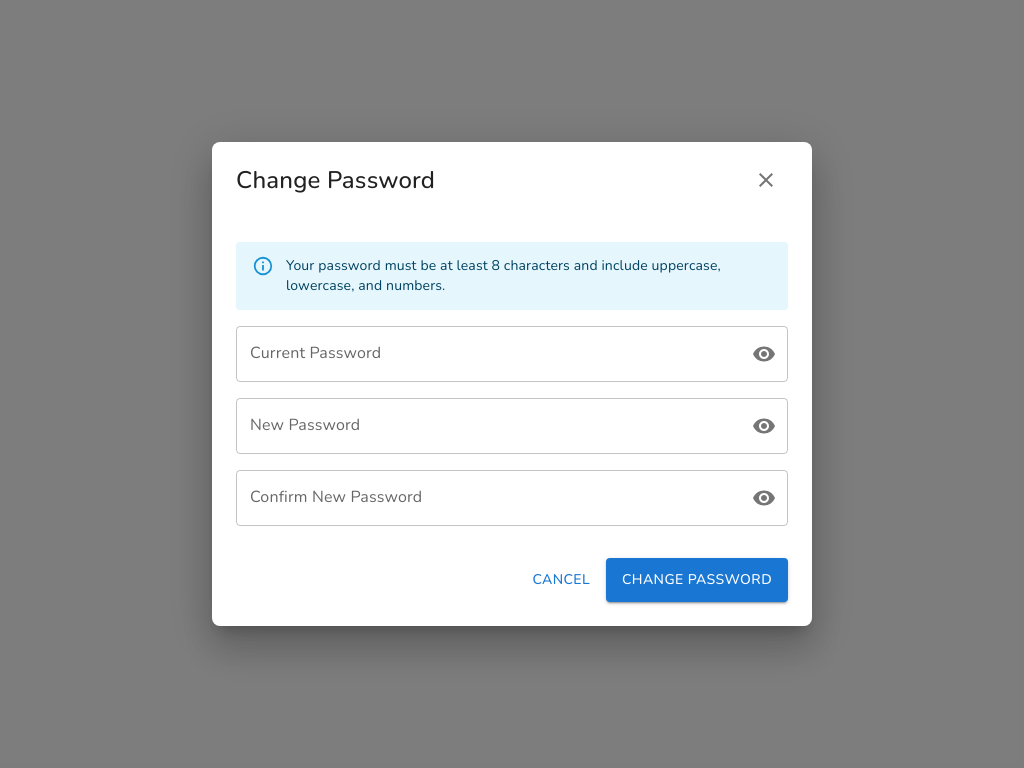
Test: ChangePasswordDialog › Form Validation › should show error when new password is empty
Step 1. Type "OldPass123" into the password field labelled "Current Password" → coordinates (485, 354), box [236,326,734,382]
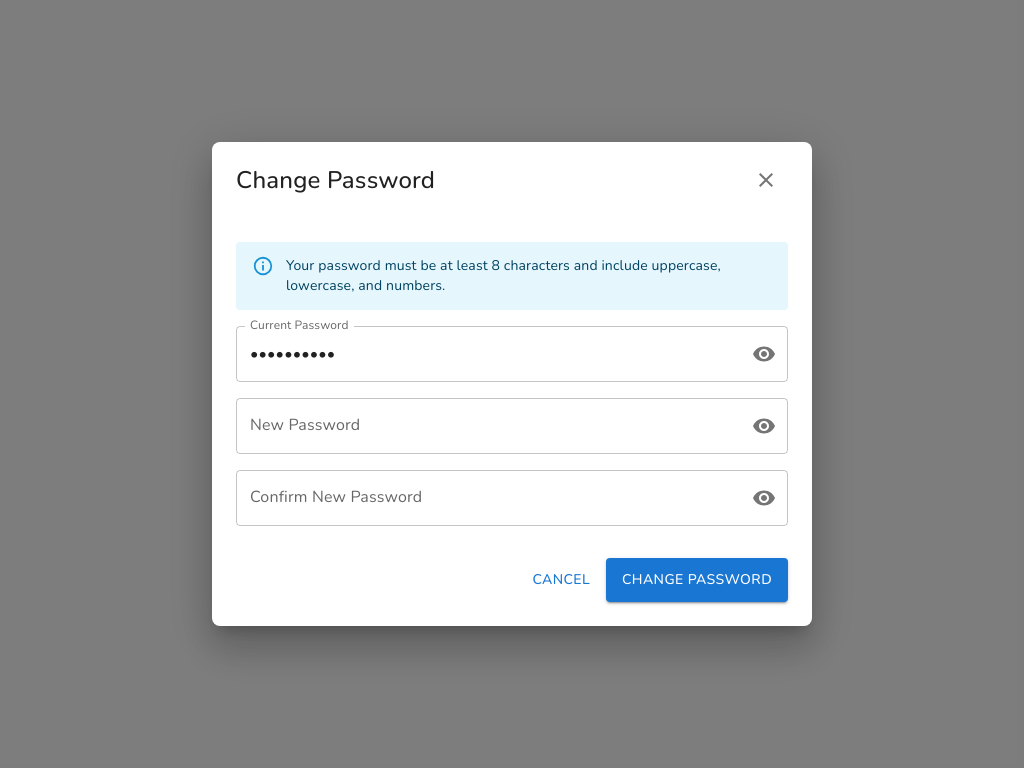
Step 2. Click the button "Change Password" → coordinates (697, 580), box [606,558,788,602]
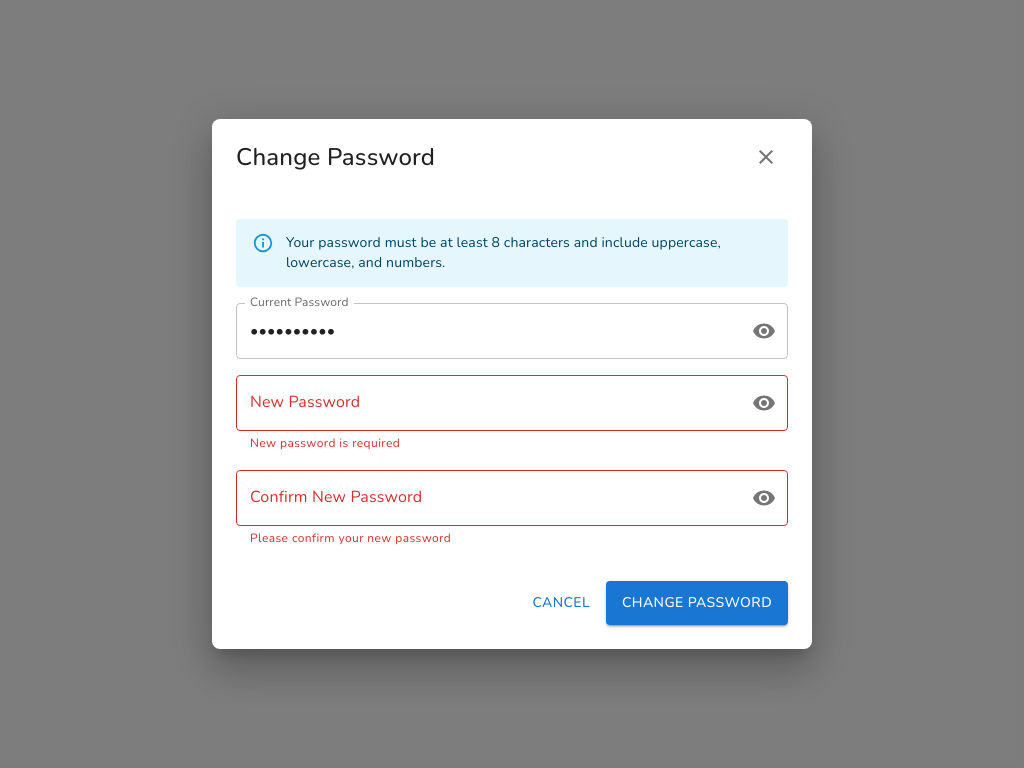
Result: the text "New password is required" is shown at [250,435,400,451]
